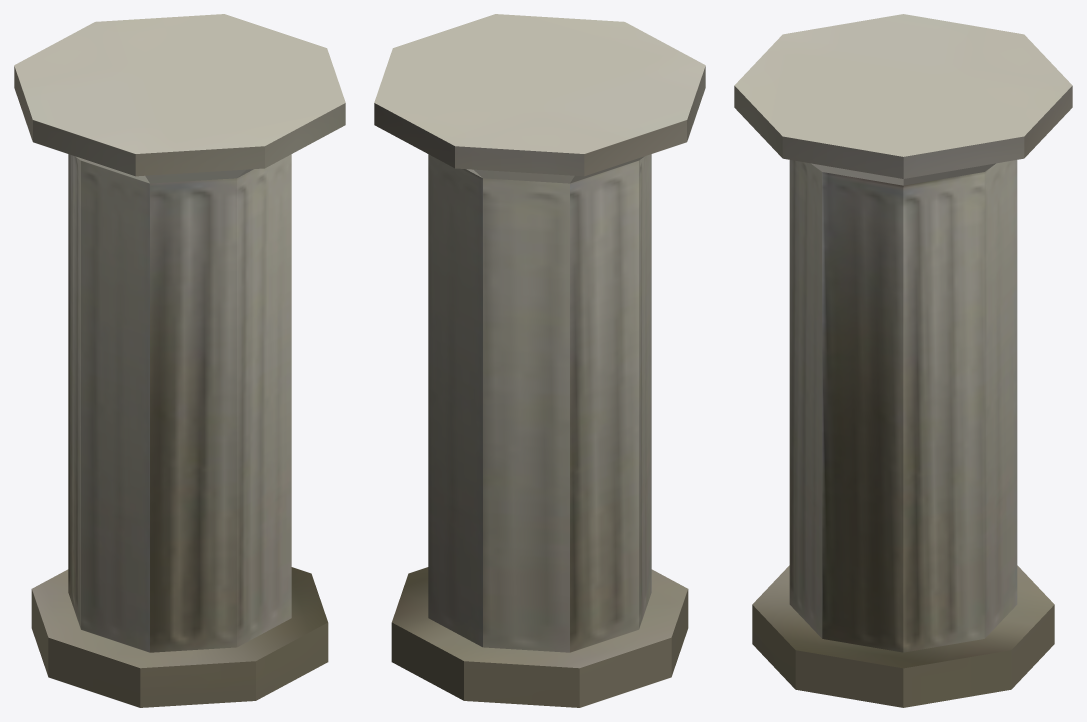
Rendered from Pedestal.fbx.
The picture shows the model from 3 angles, left to right: view 1: azimuth 30°, elevation 25°; view 2: azimuth 150°, elevation 25°; view 3: azimuth 270°, elevation 25°; orthographic projection.
Parts seen in each view (by area): view 1: Cube; view 2: Cube; view 3: Cube.
Boxes of the visible parts, x1=… form: Cube: x1=14, y1=14, x2=345, y2=707; Cube: x1=374, y1=14, x2=705, y2=707; Cube: x1=734, y1=14, x2=1072, y2=707.
Bounding box in the file's own units: 313 × 571 × 313.
1 material, 1 textured.
